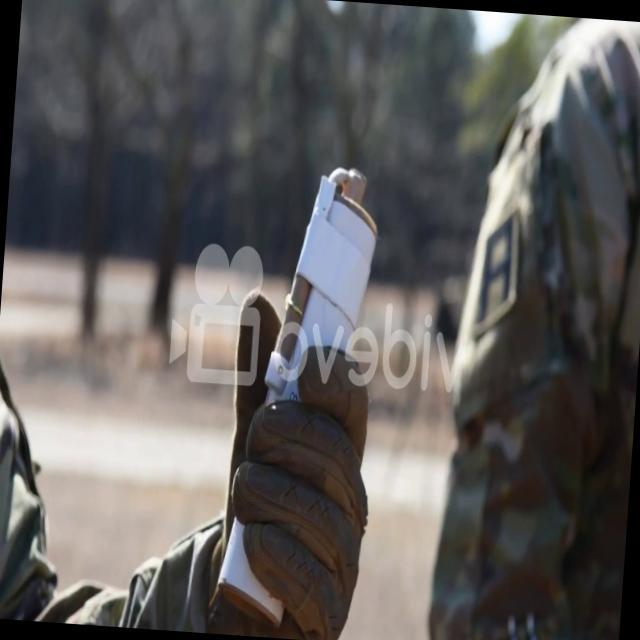grenade: (208, 159, 382, 628)
